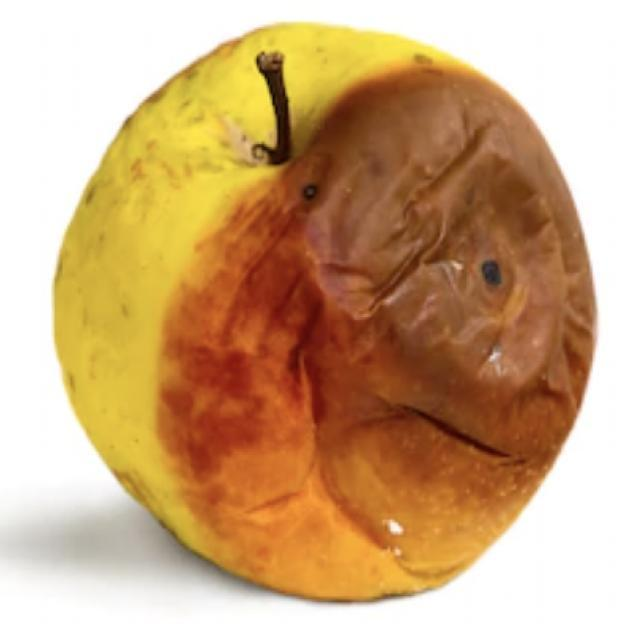Rotten: (83, 33, 580, 640)
